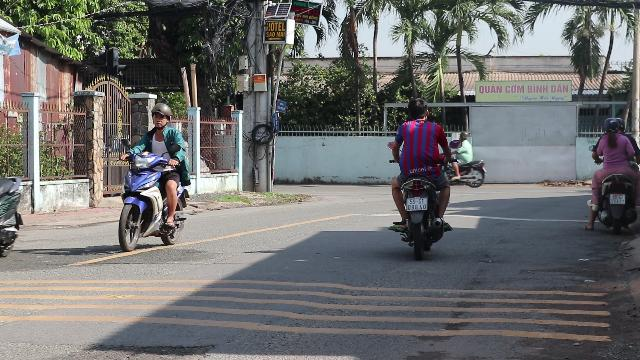helmet: (148, 103, 172, 129), (603, 116, 623, 134)
licenseplate: (406, 197, 426, 210), (610, 194, 624, 204)
motorcyclist: (114, 102, 194, 252), (385, 96, 455, 258), (584, 115, 640, 234)
nohelmet: (406, 98, 430, 122)
